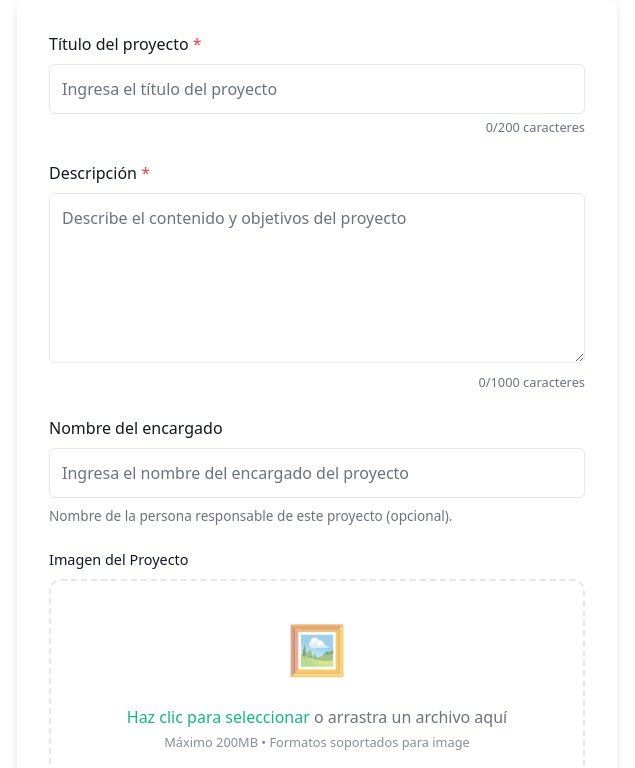
Scenario: MaterialApoyoForm › Character Counters › should update description character count as user types
Type "Test description" into the text box labelled "Descripción *".
click(317, 278); type("Test description")  # box [49,193,585,363]
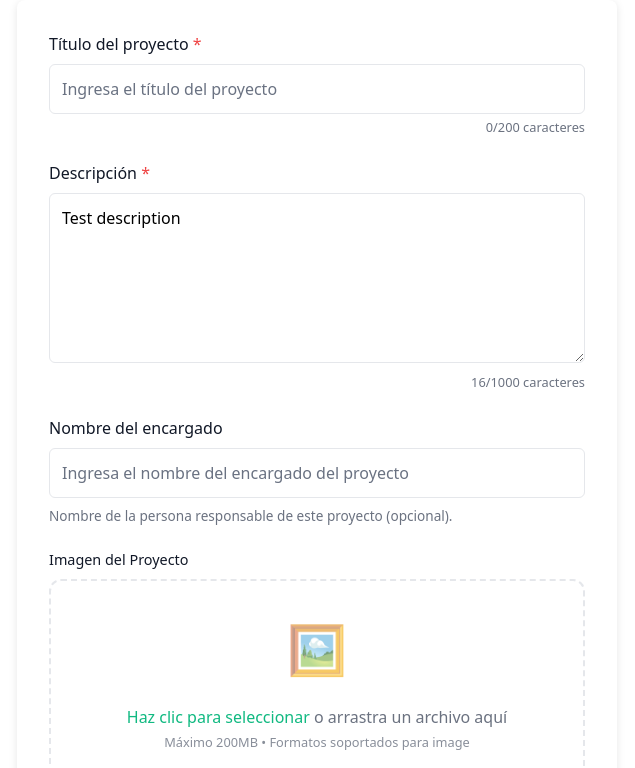
Now the text "16/1000 caracteres" is shown, box [471,373,585,391]
